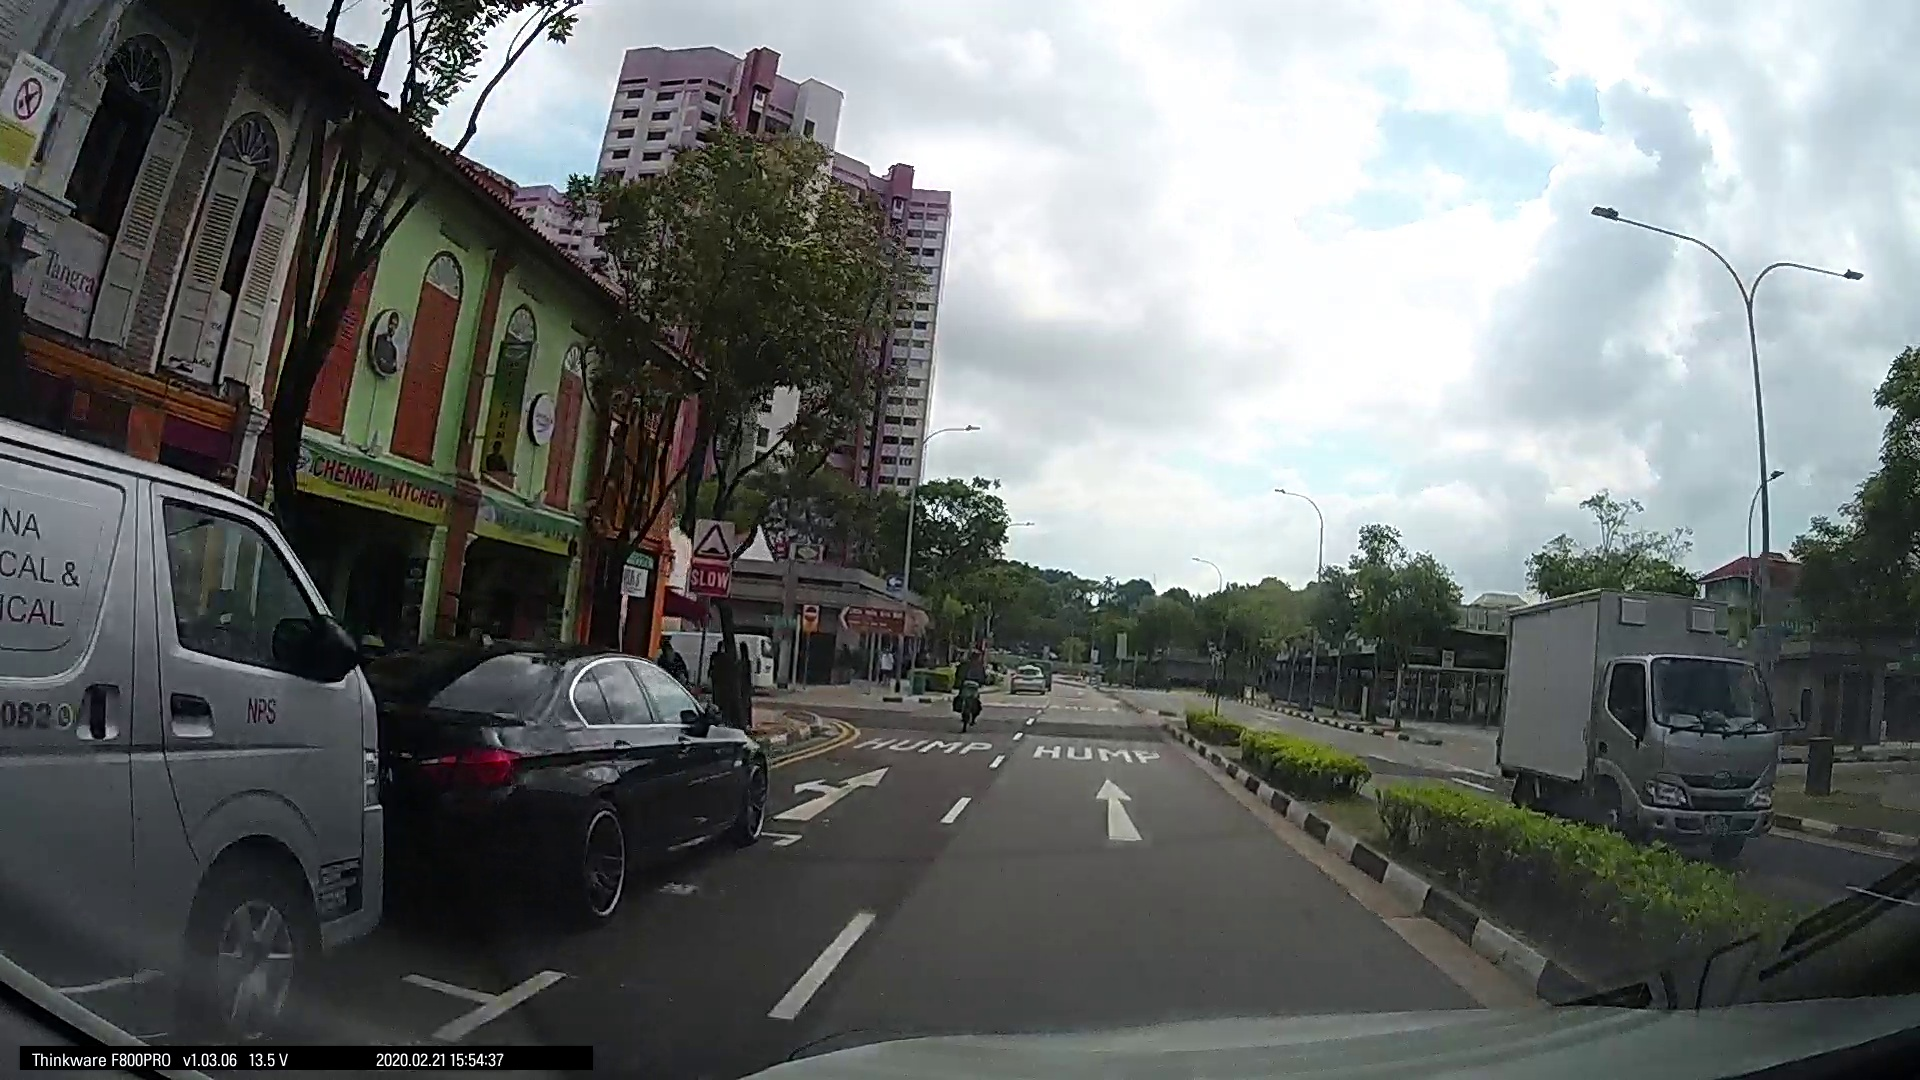Heavy Vehicle: (1489, 589, 1783, 849)
Light Vehicle: (8, 436, 398, 1014), (372, 632, 764, 923), (1004, 657, 1048, 696)
